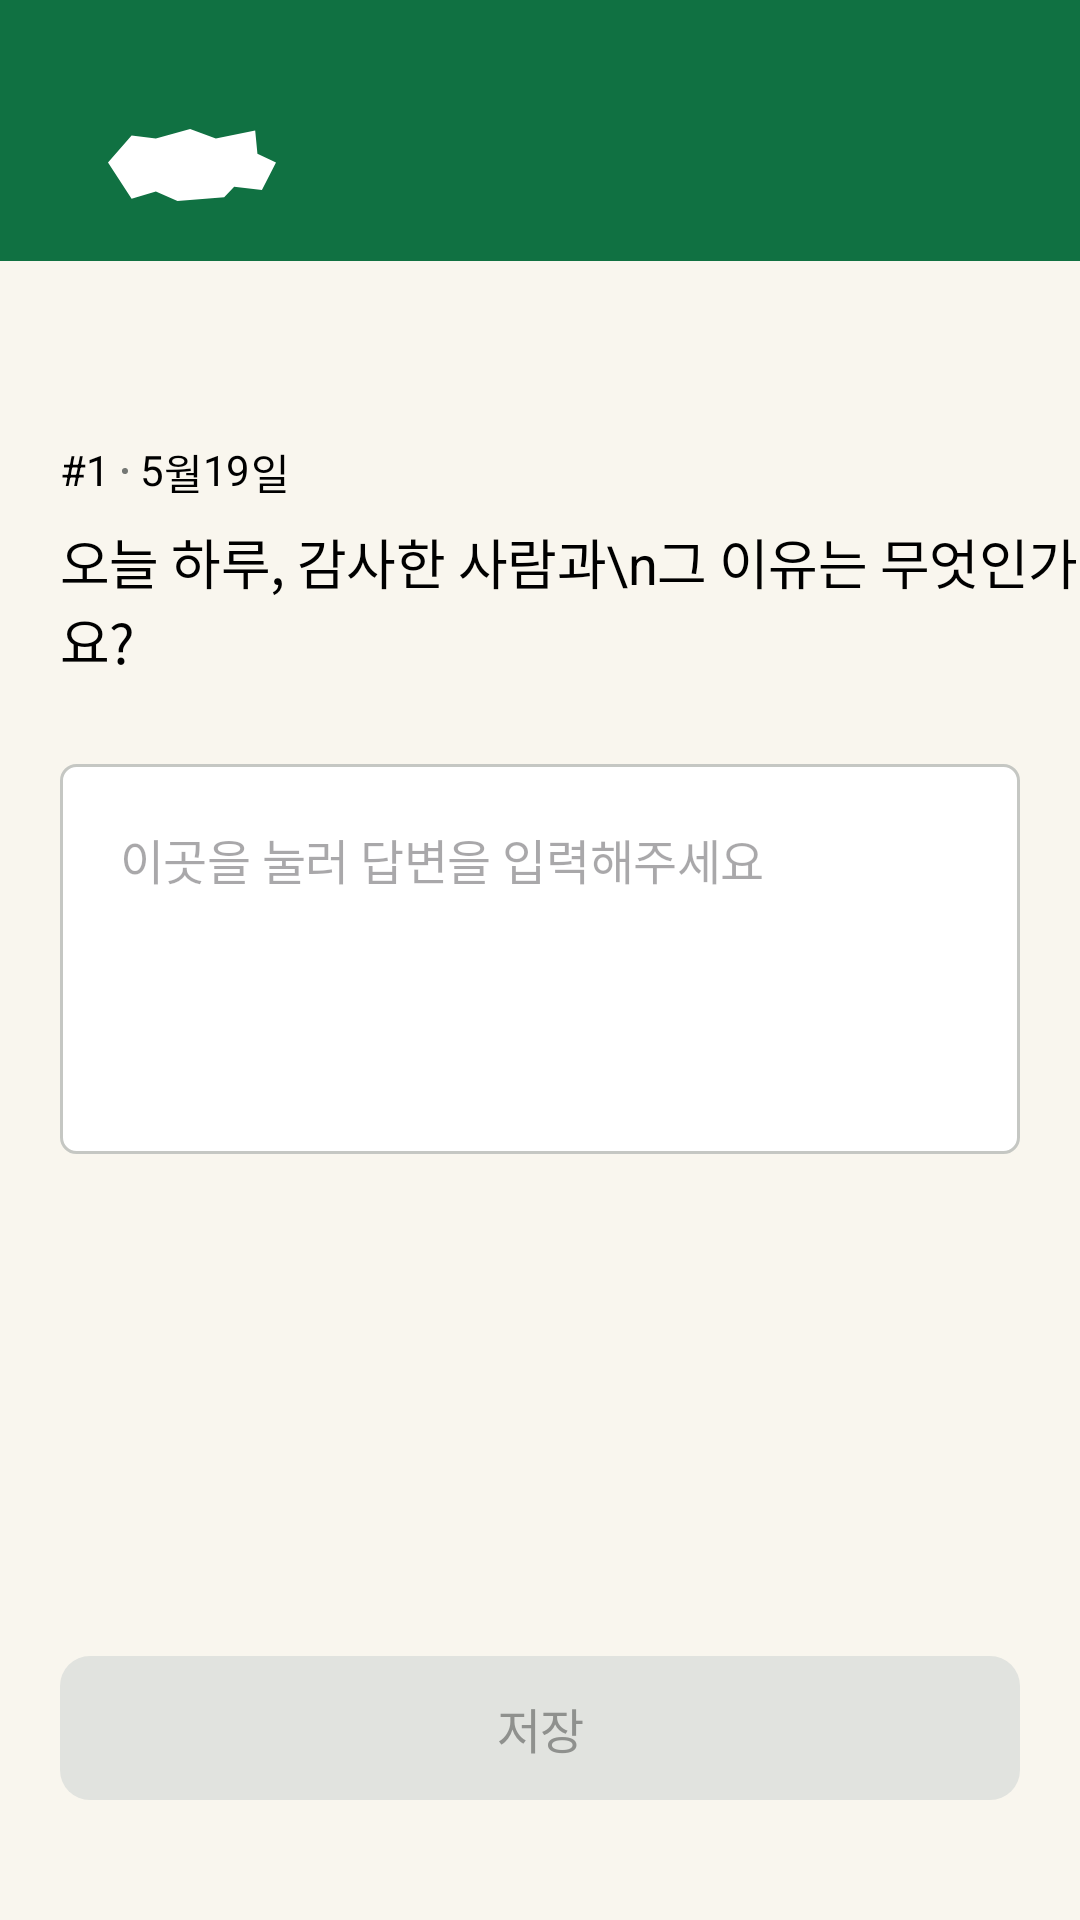

Icon bounding boxes for this 1080w x 1920h phone screenshot, format (x1, y1, x2, y2):
stone: (108, 129, 276, 201)
